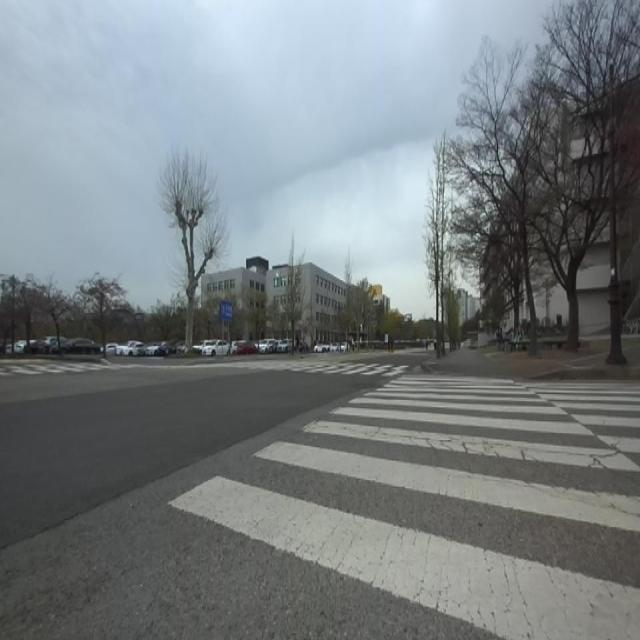sidewalk: (432, 348, 530, 377)
